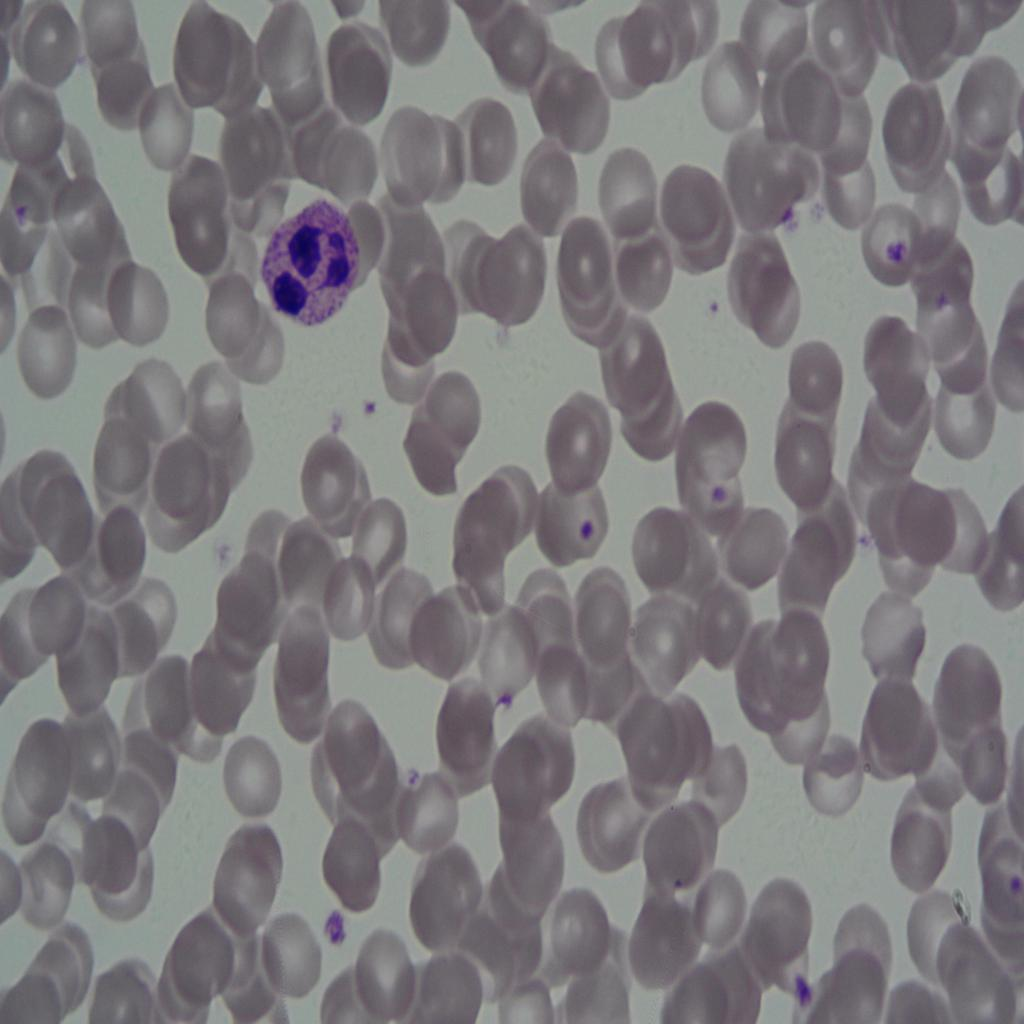Eosinofil: (258, 184, 362, 340)
Platelet: (320, 886, 372, 965), (784, 956, 818, 1019), (352, 379, 388, 436), (774, 196, 812, 244), (881, 219, 908, 281), (204, 537, 244, 573), (323, 392, 351, 438), (572, 510, 601, 553), (703, 476, 729, 512), (704, 281, 724, 317)
